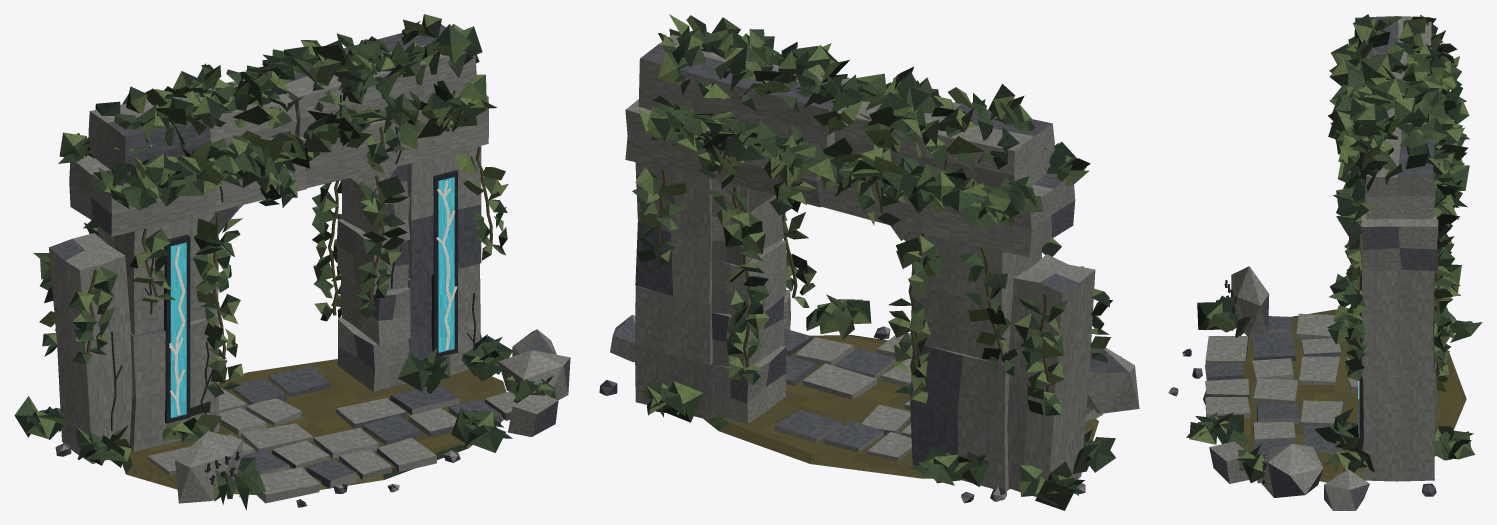
Rendered from ruins_gate.glb.
3 renders of one model, left to right at view 1: azimuth 30°, elevation 25°; view 2: azimuth 150°, elevation 25°; view 3: azimuth 270°, elevation 25°, orthographic. The views are drawn at different scales.
Visible parts, largest first — view 1: ruins_gate; view 2: ruins_gate; view 3: ruins_gate.
Part boxes in pixels (left/top/right/bottom): ruins_gate: left=14, top=14, right=570, bottom=510; ruins_gate: left=599, top=14, right=1139, bottom=510; ruins_gate: left=1168, top=14, right=1482, bottom=510.
Size of the model in its own units: 6.17 by 4.23 by 3.68.
Materials: 2 (2 with a texture image).
